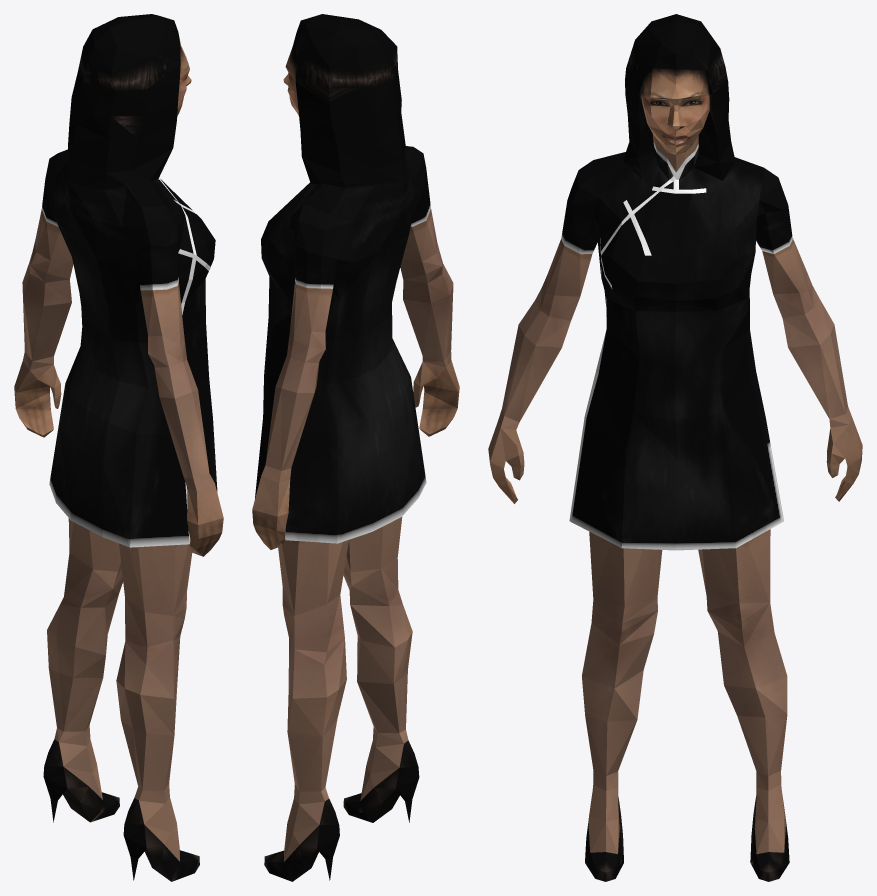
The model's file is sofyri.obj.
3 views of the same model, side by side, from view 1: azimuth 30°, elevation 25°; view 2: azimuth 150°, elevation 25°; view 3: azimuth 270°, elevation 25° (orthographic). The views are drawn at different scales.
Parts seen in each view (by area): view 1: _Pelvis; view 2: _Pelvis; view 3: _Pelvis.
Boxes of the visible parts, x1,y1,x2,y2 form: _Pelvis: (14, 14, 223, 881); _Pelvis: (252, 14, 459, 881); _Pelvis: (488, 14, 862, 881).
Bounding box in the file's own units: 0.2838 × 1.71 × 0.6856.
Materials: 1 (1 with a texture image).
